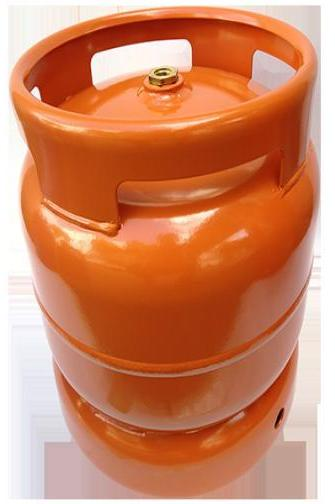cylinder: (1, 1, 335, 504)
